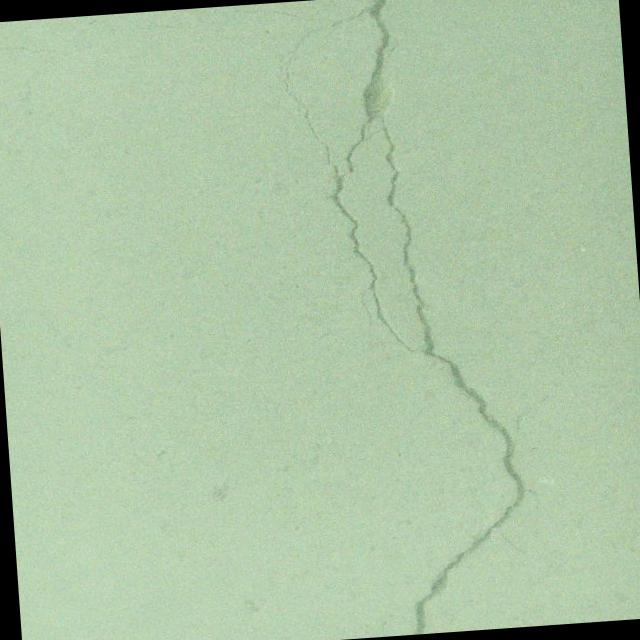crack: (193, 0, 582, 640), (0, 35, 118, 62), (589, 520, 640, 562), (89, 13, 182, 34), (560, 358, 580, 369), (73, 26, 93, 34), (574, 342, 589, 352)
